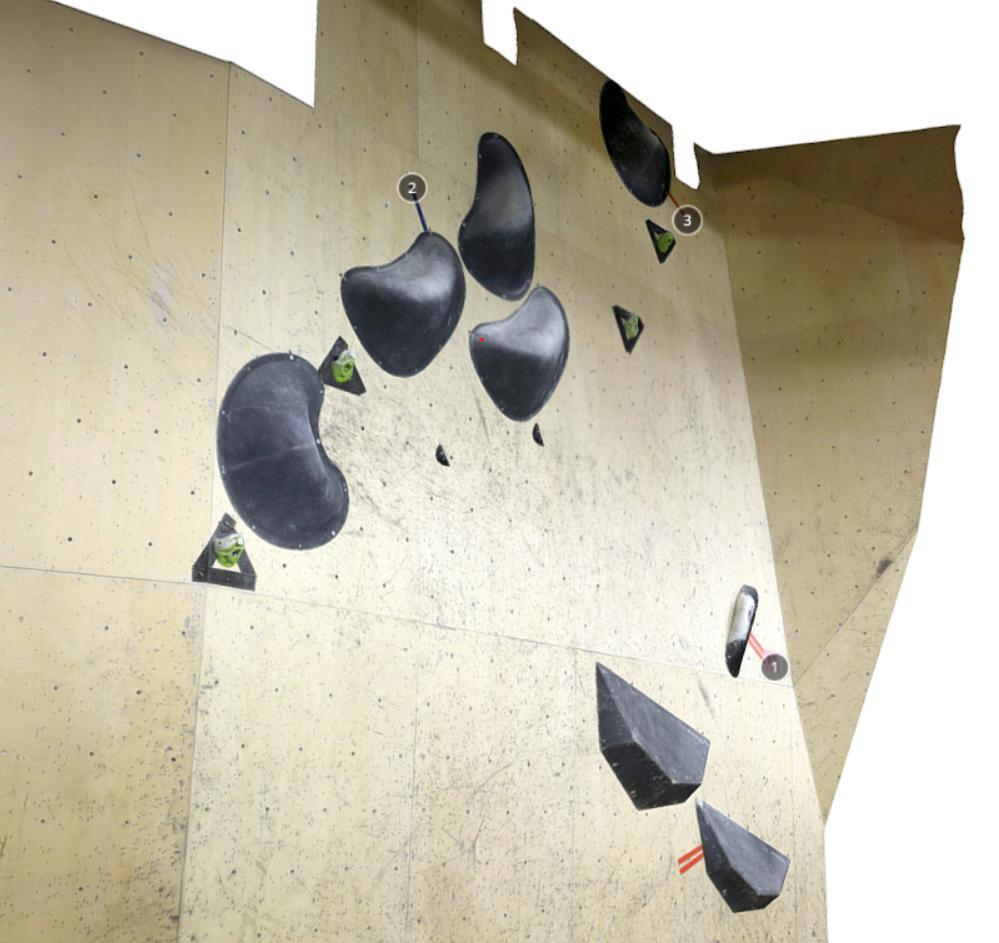hold: (217, 351, 350, 550), (340, 231, 466, 378), (470, 287, 571, 423), (457, 131, 535, 303), (598, 81, 672, 207), (192, 513, 257, 592), (725, 585, 759, 677), (318, 336, 367, 396), (612, 305, 645, 354), (645, 218, 677, 264), (436, 443, 450, 467), (532, 423, 545, 446)
volume: (596, 661, 710, 812), (695, 797, 791, 913)
